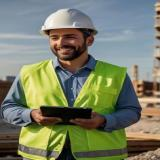Helmet: (37, 8, 99, 38)
Vest: (20, 59, 127, 160)
